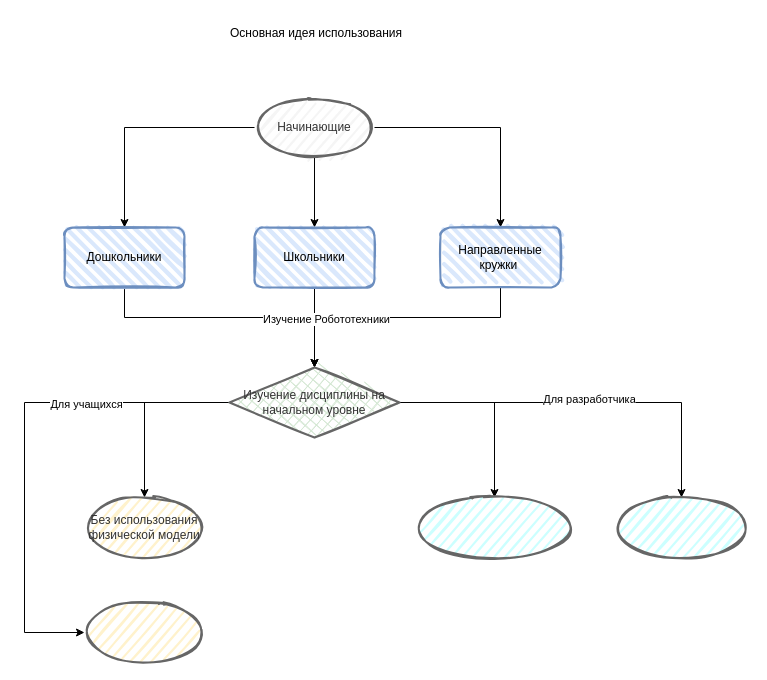
Some shapes in this 767 by 680 pixel diagram are drawn without their labels. Each missing label, with the centre of its shape:
Изучение концепции разработки визуального языка: point (681, 527)
Изучение принципа программирования: point (144, 632)
Исследование возможностей разработки 2D-моделей: point (494, 527)
